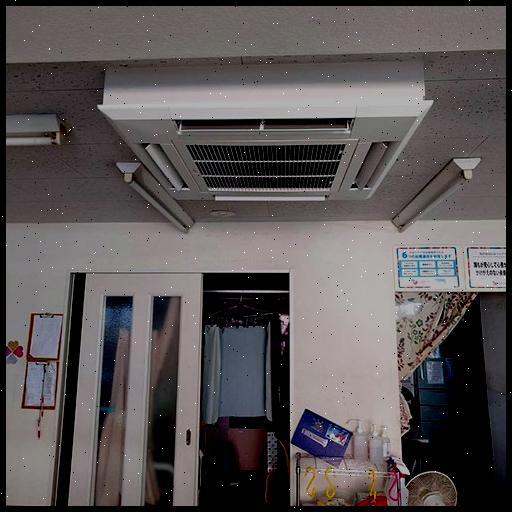4-way-ac: (96, 101, 429, 202)
